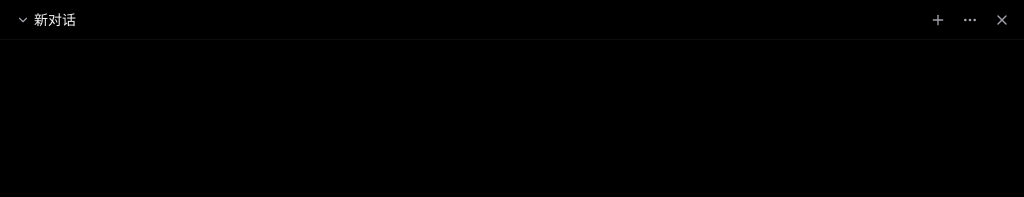
ConversationHeader › opens menu with 清空当前会话, 清空所有历史, 导出为 JSON options
Click the button named "菜单" at (970, 20), box [956, 6, 984, 34]
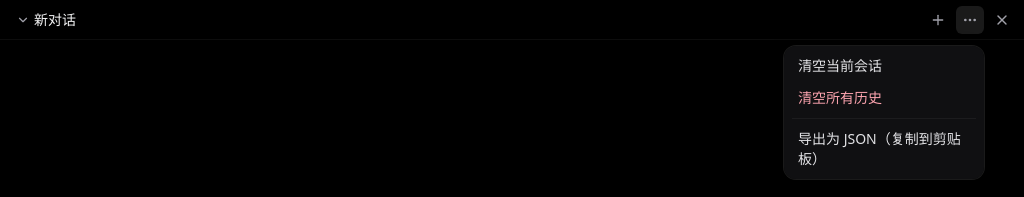
Expected: the menu named "操作菜单" shows "清空当前会话", [788, 50, 980, 82]
Expected: the menu named "操作菜单" shows "清空所有历史", [788, 82, 980, 114]
Expected: the menu named "操作菜单" shows "导出为 JSON", [788, 122, 980, 174]
